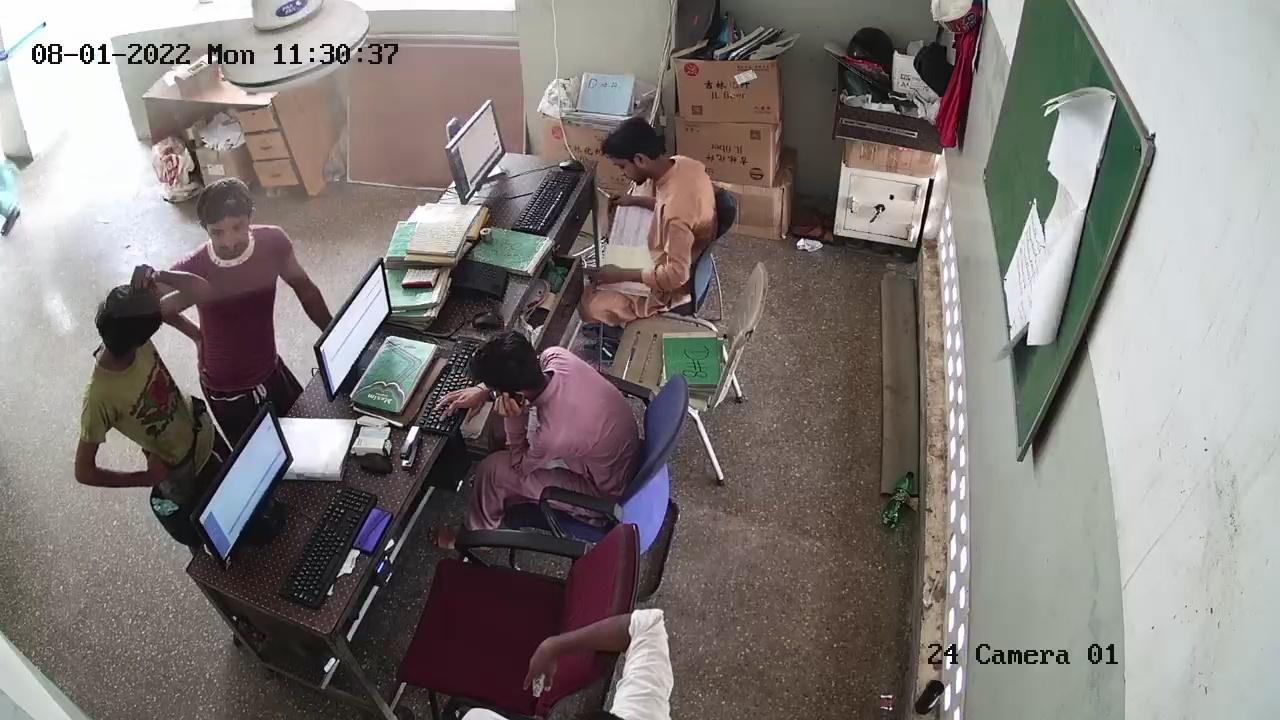person: (486, 345, 635, 507), (616, 115, 724, 308), (99, 278, 197, 477), (182, 193, 284, 373)
